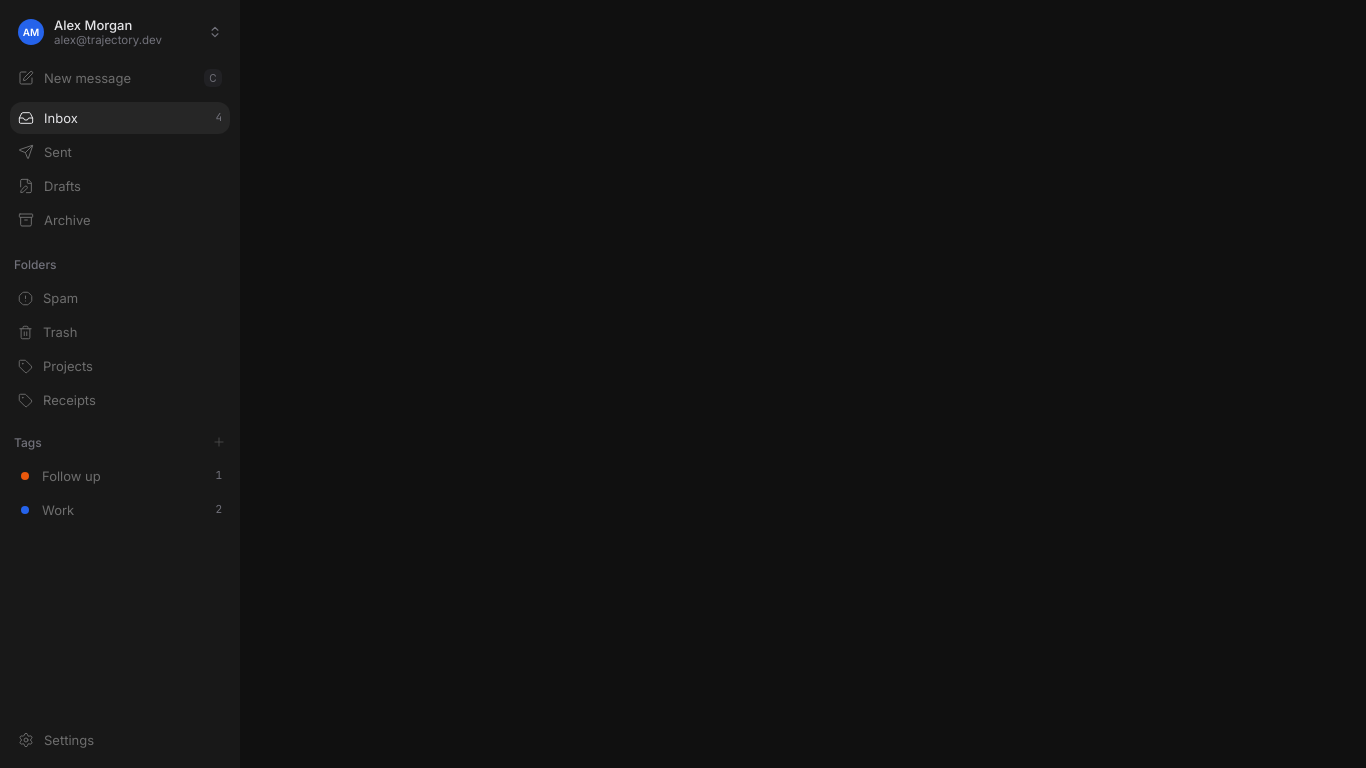
Tags UI › accounts show their domain's BIMI logo and whether it is verified
The image size is (1366, 768).
Click the button with test id "account-switcher" at (120, 32), box [10,10,230,54]
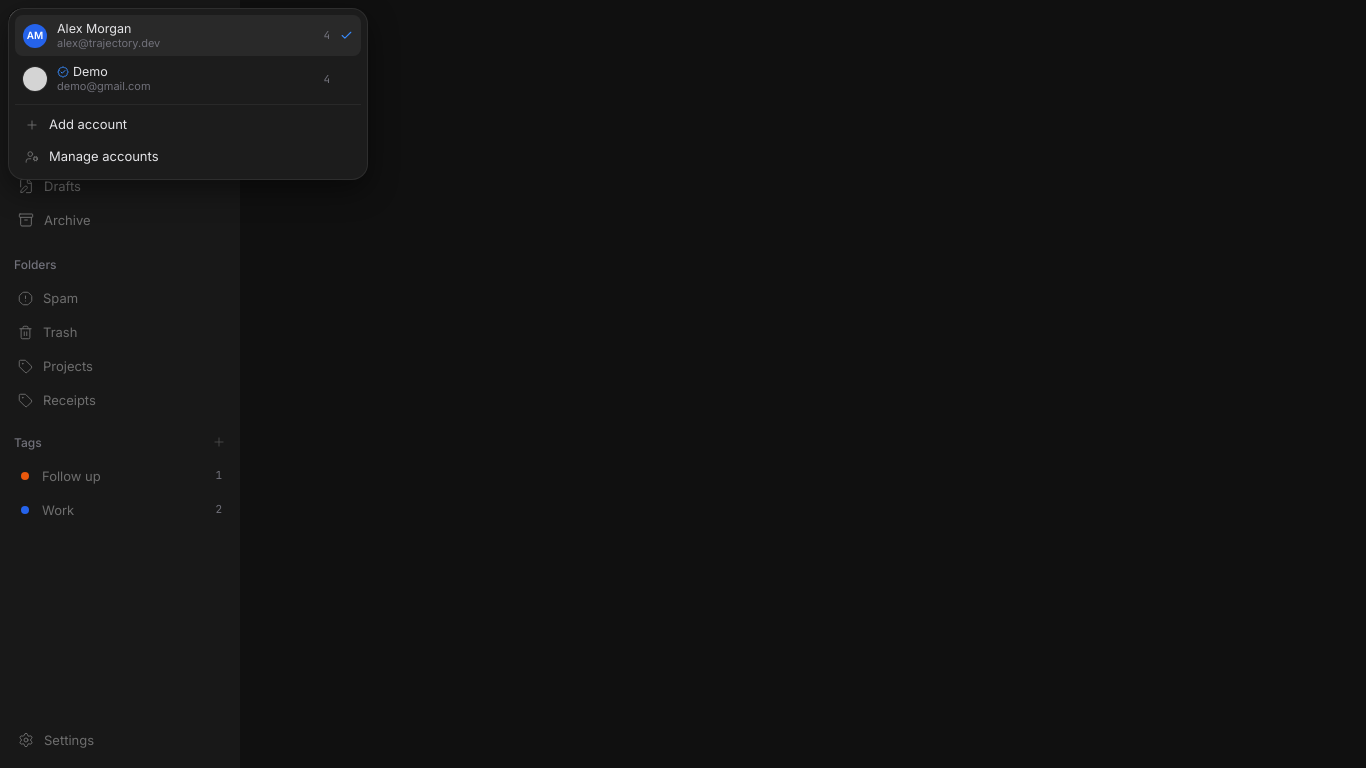
Result: the element with test id "verified-sender" is shown at [57,66,69,78]
